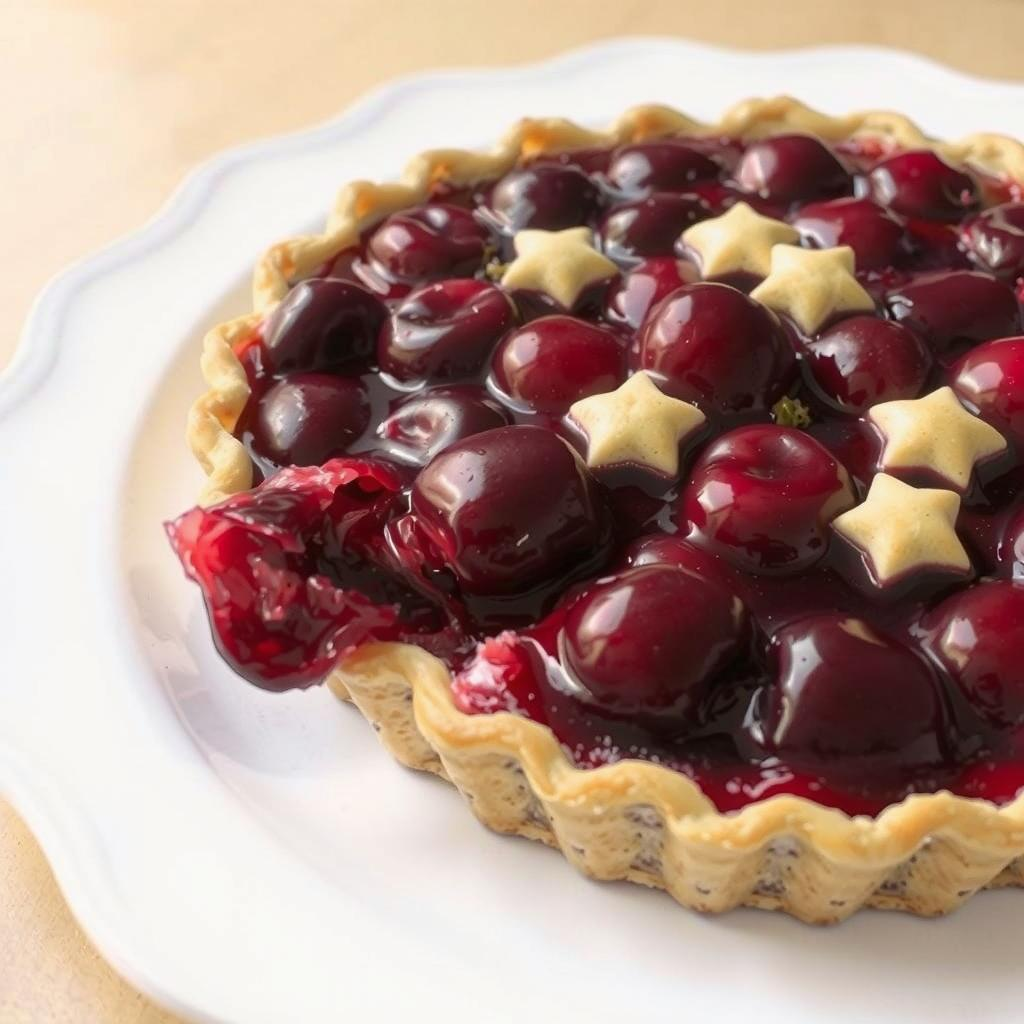pie: (177, 86, 1024, 930)
